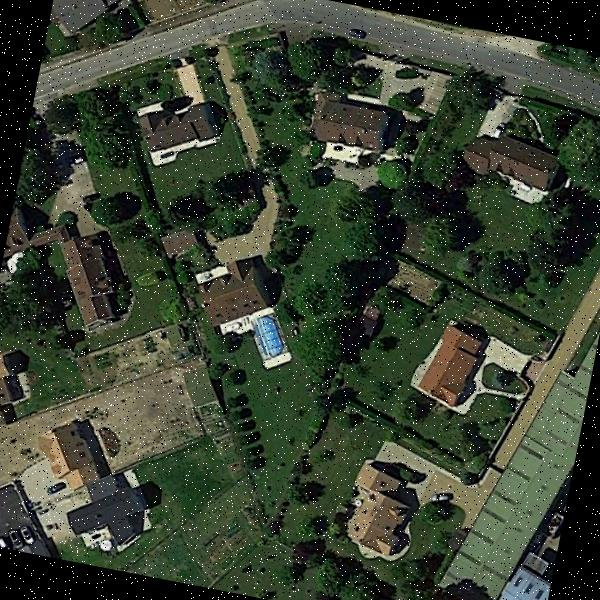Buildings: (36, 430, 169, 558), (43, 222, 123, 328), (338, 462, 419, 556), (196, 254, 281, 333), (298, 82, 393, 152), (464, 125, 558, 193), (141, 97, 224, 166), (422, 328, 476, 410), (4, 214, 76, 274), (47, 0, 113, 42), (493, 564, 552, 600), (0, 355, 25, 434)
